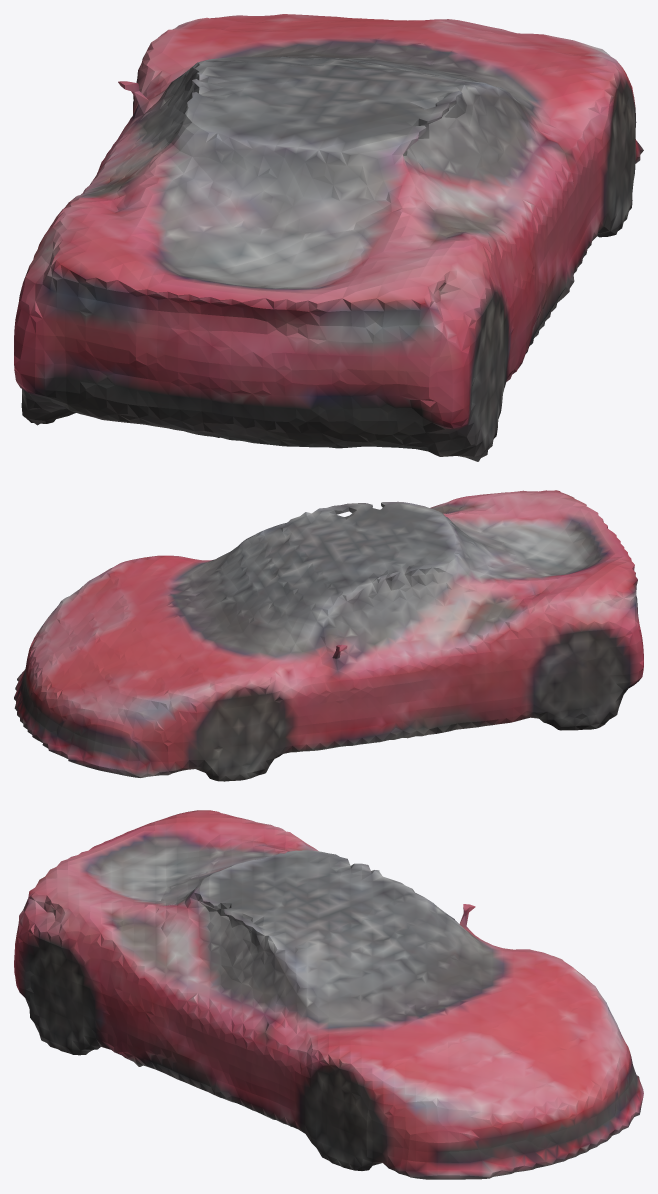
The picture shows the model from 3 angles, top to bottom: view 1: azimuth 30°, elevation 25°; view 2: azimuth 150°, elevation 25°; view 3: azimuth 270°, elevation 25°; orthographic projection. The views are drawn at different scales.
Parts seen in each view (by area): view 1: model.glb; view 2: model.glb; view 3: model.glb.
Boxes of the visible parts, x1=… form: model.glb: x1=14, y1=14, x2=643, y2=461; model.glb: x1=14, y1=490, x2=643, y2=781; model.glb: x1=14, y1=810, x2=643, y2=1179.
Bounding box in the file's own units: 0.9839 × 0.2892 × 1.
